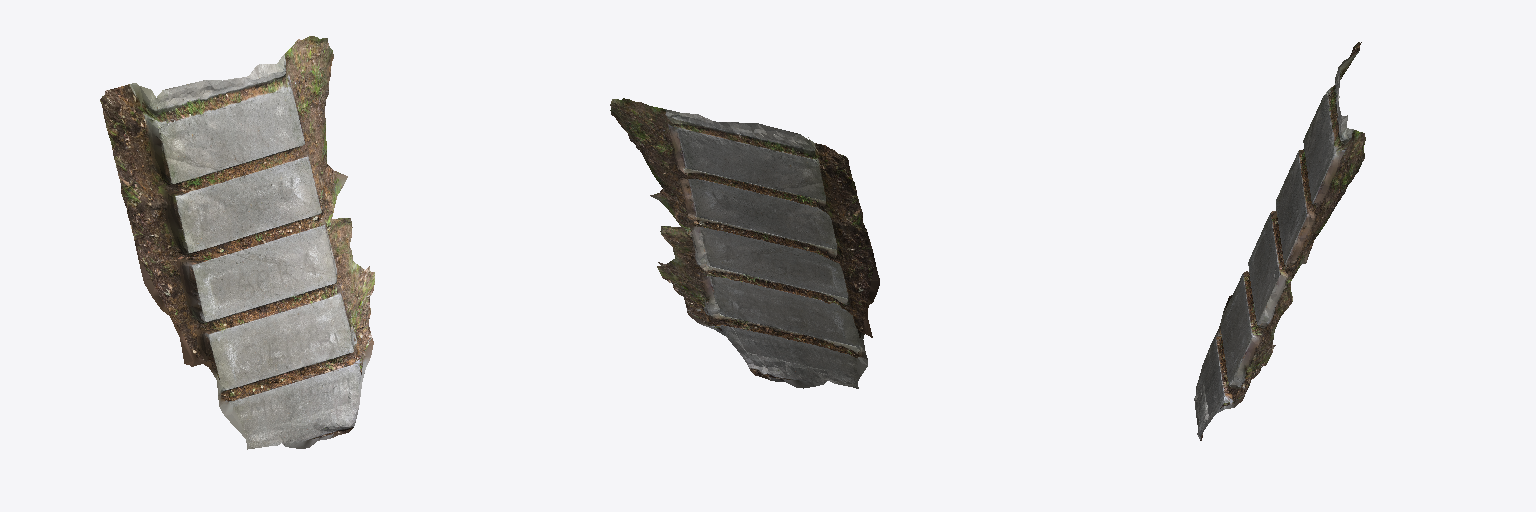
3 views of the same model, side by side, from view 1: azimuth 30°, elevation 25°; view 2: azimuth 150°, elevation 25°; view 3: azimuth 270°, elevation 25° (orthographic).
Bounding box in the file's own units: 8.56 × 11.48 × 5.43.
1 materials, 1 textured.